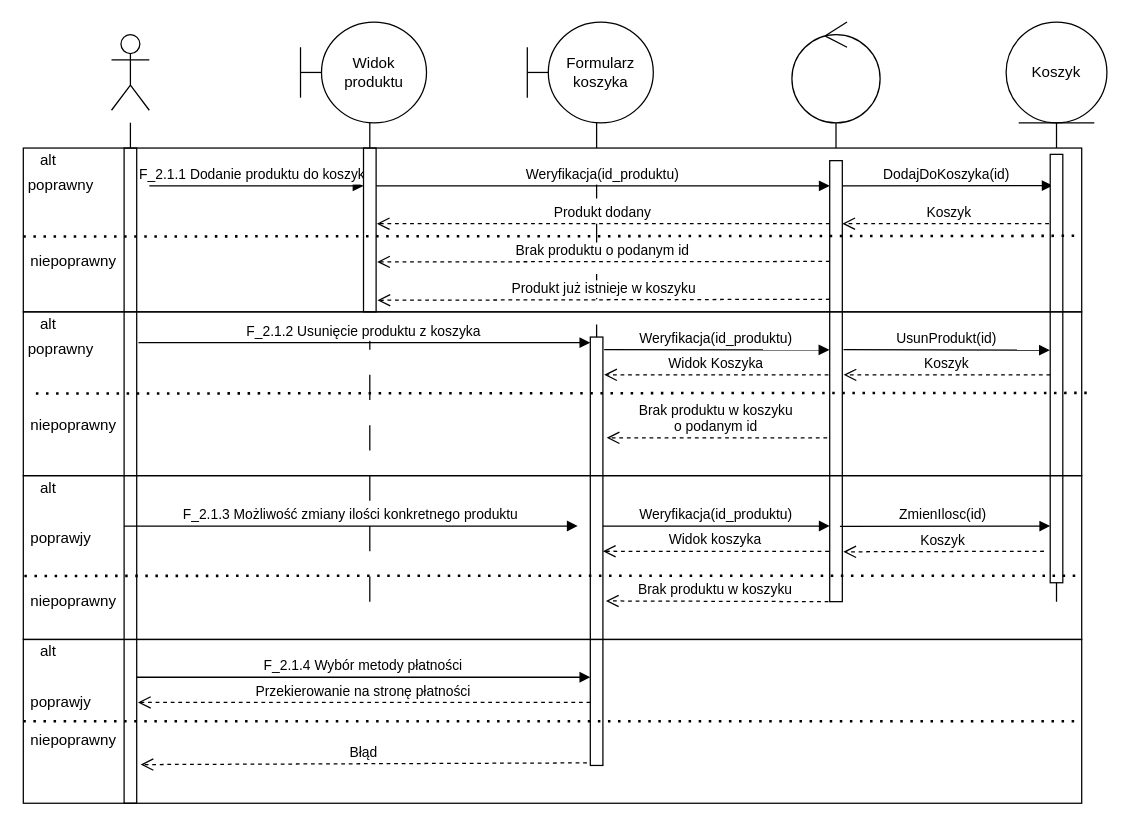
Some shapes in this 1129 by 825 pixel diagram are drawn without their labels. Each missing label, with the box of its shape:
Edycja Koszyka: (791, 21, 880, 123)
Klient: (110, 33, 149, 110)
